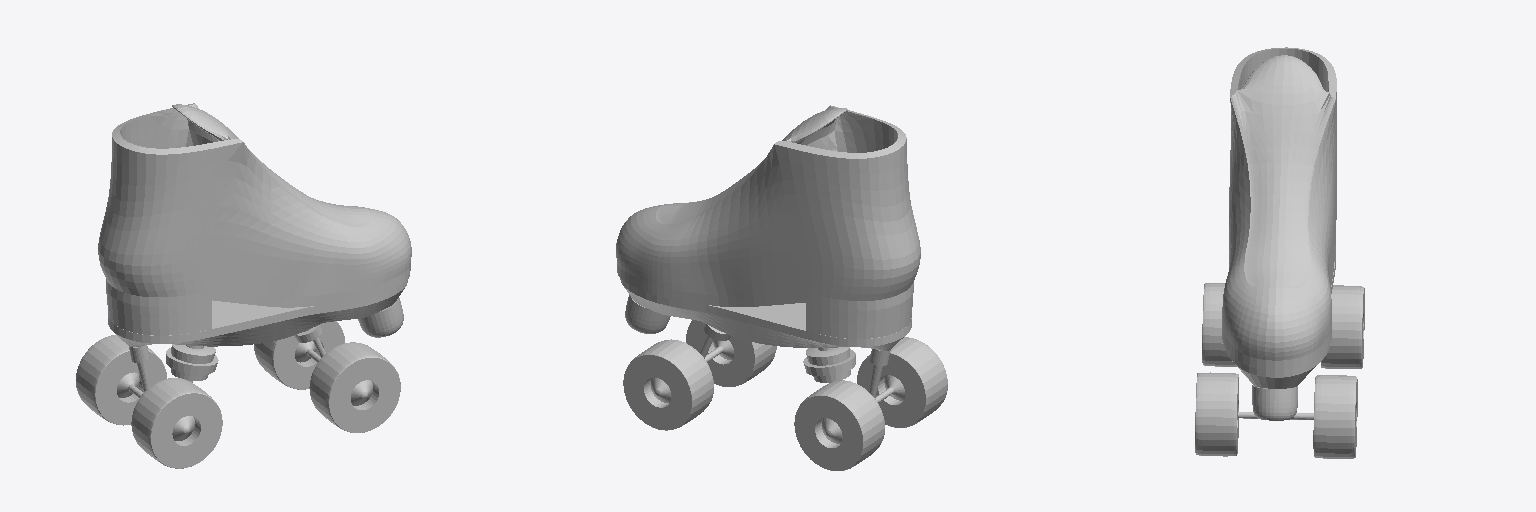
File: rollerSkateRightFoot.obj
3 renders of one model, left to right at view 1: azimuth 30°, elevation 25°; view 2: azimuth 150°, elevation 25°; view 3: azimuth 270°, elevation 25°, orthographic.
Visible parts, largest first — view 1: rollerskates.060_rollerskates.074, rollerskates.064_rollerskates.078, rollerskates.066_rollerskates.080, rollerskates.074_rollerskates.088, rollerskates.065_rollerskates.079, rollerskates.061_rollerskates.075; view 2: rollerskates.060_rollerskates.074, rollerskates.064_rollerskates.078, rollerskates.066_rollerskates.080, rollerskates.074_rollerskates.088, rollerskates.065_rollerskates.079, rollerskates.061_rollerskates.075, rollerskates.063_rollerskates.077; view 3: rollerskates.060_rollerskates.074, rollerskates.066_rollerskates.080, rollerskates.064_rollerskates.078, rollerskates.061_rollerskates.075, rollerskates.074_rollerskates.088.
Boxes of the visible parts, x1,y1,x2,y2 form: rollerskates.060_rollerskates.074: [98, 103, 411, 335]; rollerskates.064_rollerskates.078: [76, 335, 222, 468]; rollerskates.066_rollerskates.080: [254, 321, 400, 432]; rollerskates.074_rollerskates.088: [108, 280, 407, 346]; rollerskates.065_rollerskates.079: [166, 344, 218, 382]; rollerskates.061_rollerskates.075: [358, 298, 403, 337]; rollerskates.060_rollerskates.074: [616, 105, 920, 338]; rollerskates.064_rollerskates.078: [794, 337, 947, 470]; rollerskates.066_rollerskates.080: [623, 320, 776, 430]; rollerskates.074_rollerskates.088: [620, 278, 911, 350]; rollerskates.065_rollerskates.079: [803, 347, 855, 382]; rollerskates.061_rollerskates.075: [625, 295, 670, 333]; rollerskates.063_rollerskates.077: [869, 349, 890, 397]; rollerskates.060_rollerskates.074: [1222, 47, 1336, 370]; rollerskates.066_rollerskates.080: [1195, 372, 1357, 458]; rollerskates.064_rollerskates.078: [1202, 283, 1364, 368]; rollerskates.061_rollerskates.075: [1252, 385, 1297, 420]; rollerskates.074_rollerskates.088: [1224, 262, 1335, 388].
Bounding box in the file's own units: 18.15 × 19.11 × 8.95.